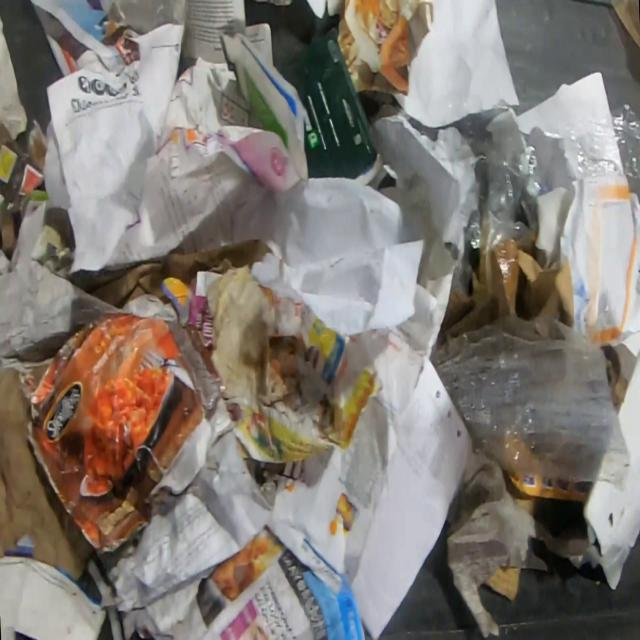cardboard: (15, 311, 224, 554), (0, 365, 95, 582), (276, 27, 383, 186), (432, 238, 574, 351), (582, 350, 640, 593), (0, 114, 46, 250)
soft_plastic: (429, 314, 631, 501), (453, 98, 541, 252), (548, 104, 640, 204), (602, 0, 640, 54)
